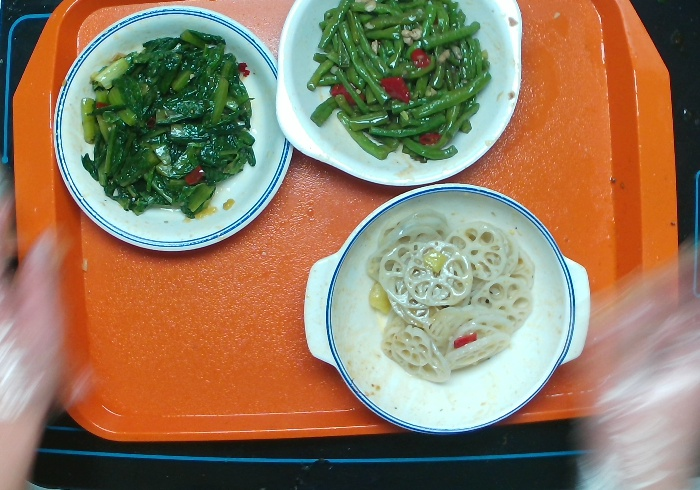HZYJPL-Dai_Er_Bai_Yuan_Wan: (272, 1, 524, 188)
HZYJPL-Lan_Bian_Dai_Er_Wan: (302, 182, 592, 437)
HZYJPL-Lan_Bian_Yuan_Die: (51, 4, 294, 252)
